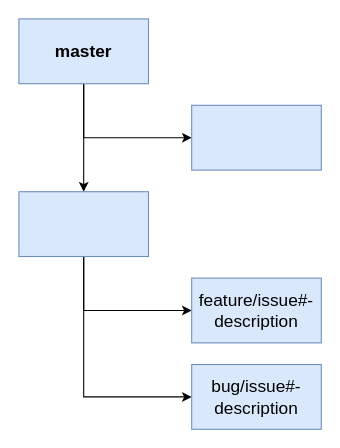
Image size: 340x448. Some labels were removed from this diagram. The shapes that lost their labels are listed below. From the top down, each one's centre as x and y in pixels, then its label:
At (256,137): "hotfix/issue#-description".
At (83,223): "development".
